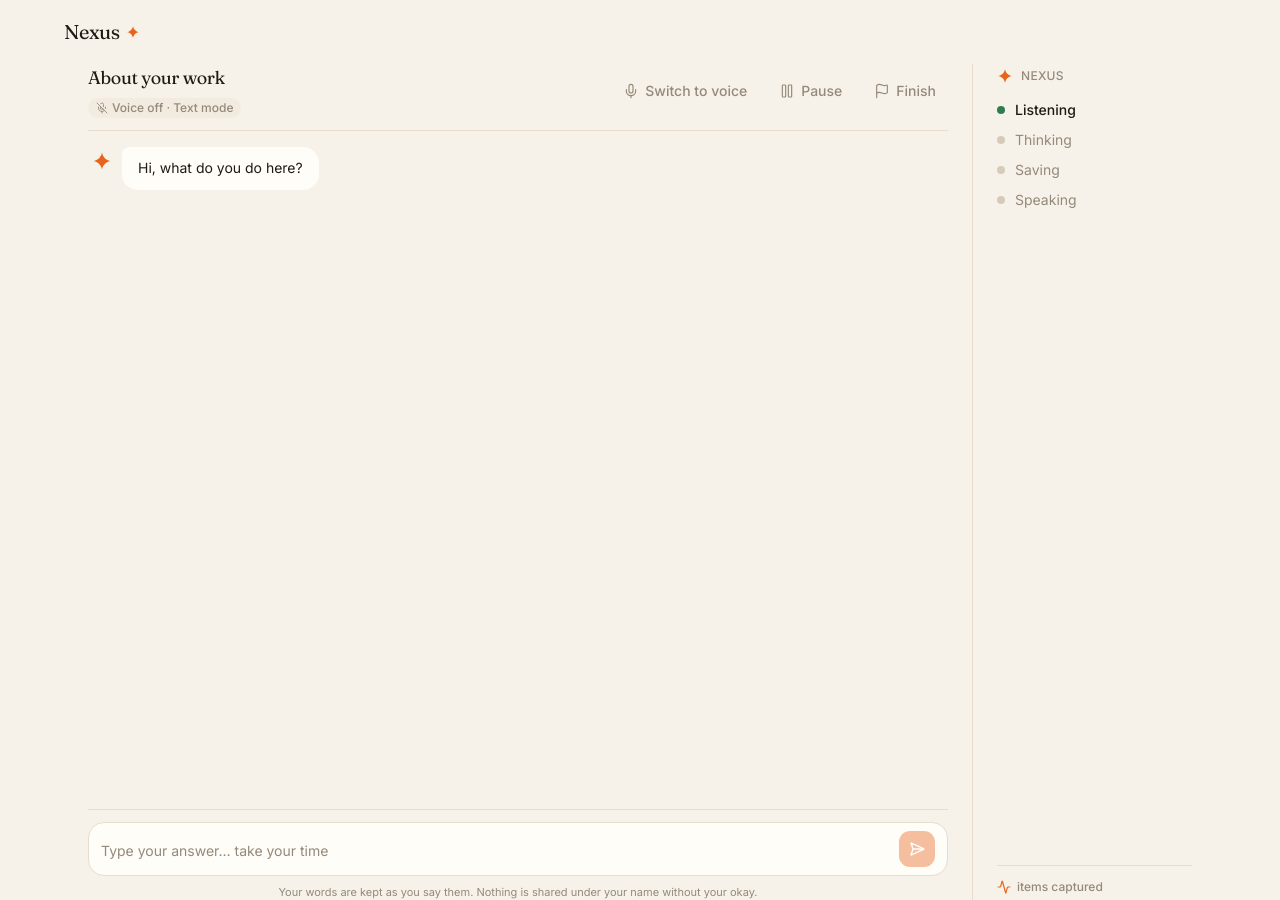
Test: InterviewClient text turn — never a silent no-reply (ADD-3.1) › renders the reply from the done frame when no delta frames arrive
This screenshot has width=1280, height=900.
Type "I run the daily repricing." into the text box with placeholder "Type your answer… take your time". click: (496,850)
box: [101,834,891,866]
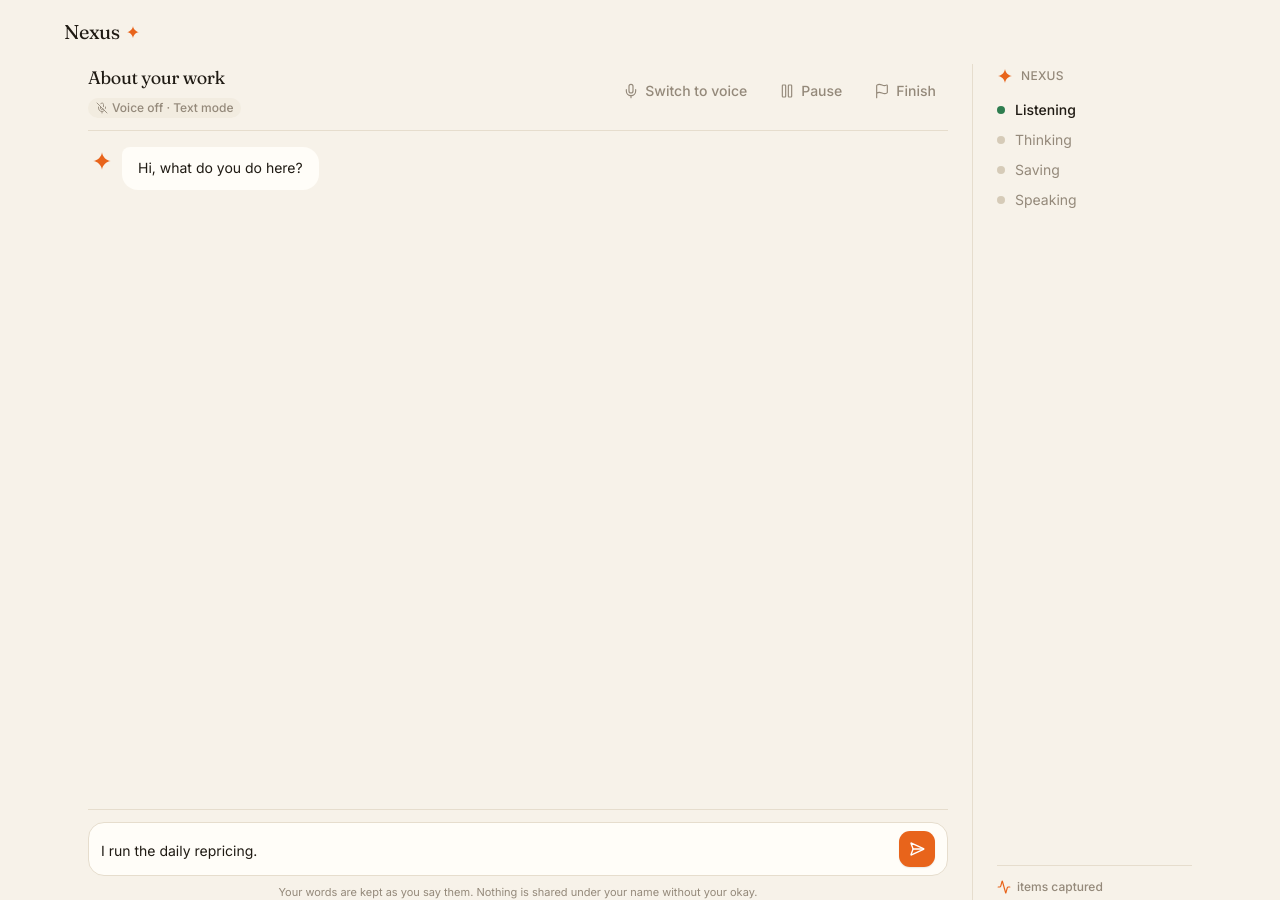
Press Enter in the text box with placeholder "Type your answer… take your time", box [101,834,891,866]
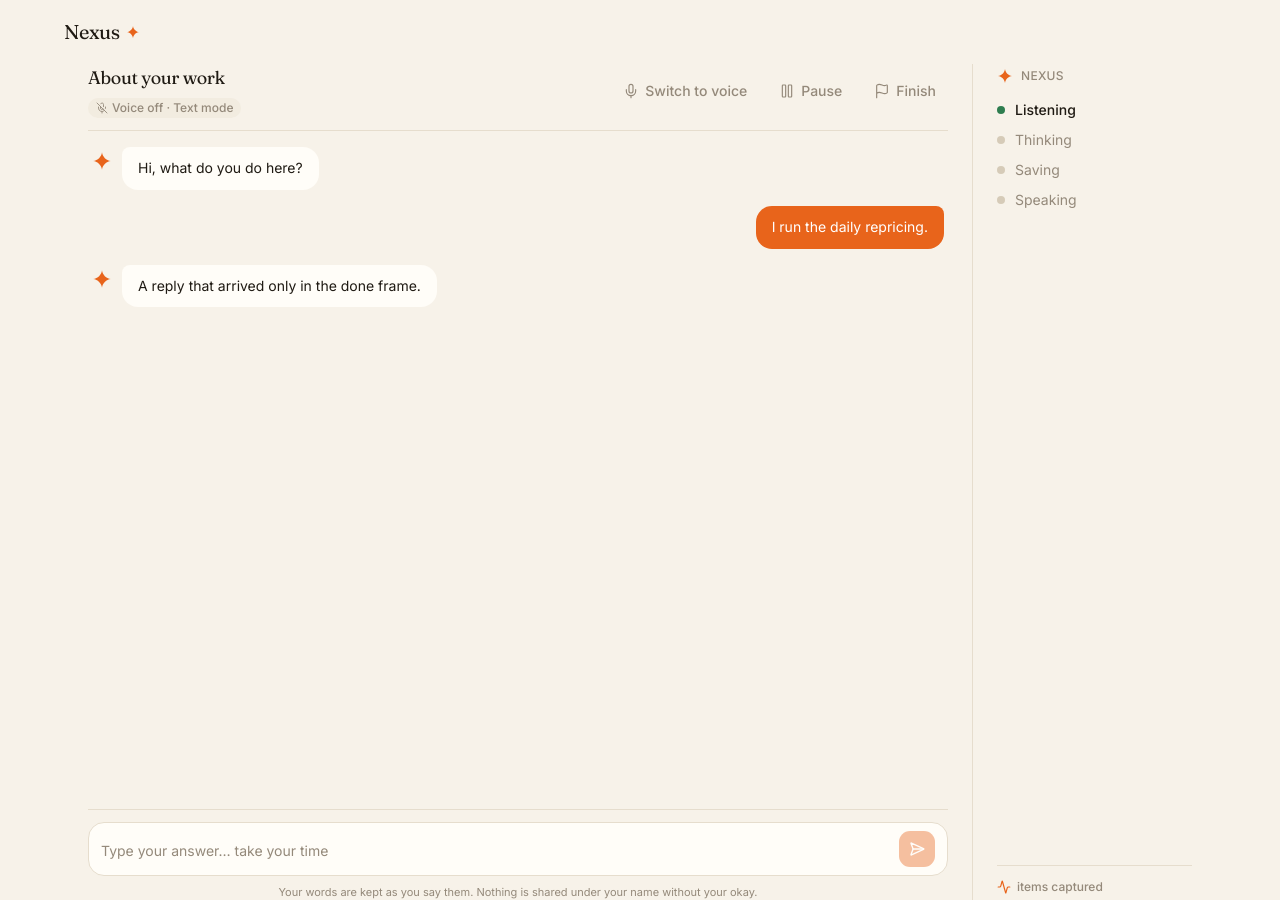
expect the text "A reply that arrived only in the done frame." is shown: met, box [122,264,437,307]
